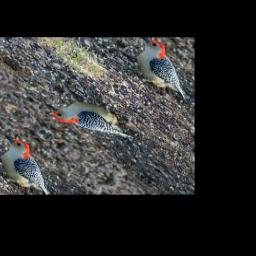Woodpecker: (39, 79, 147, 158)
